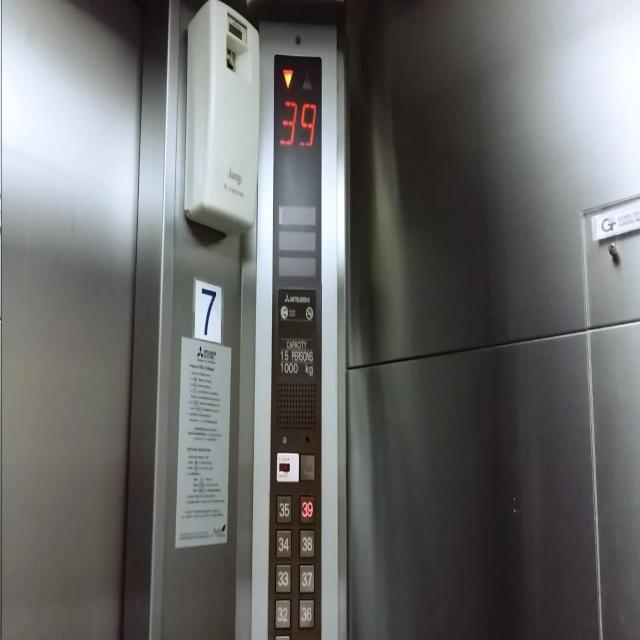32: (273, 596, 292, 630)
33: (274, 560, 292, 594)
34: (274, 526, 293, 558)
35: (274, 492, 292, 524)
36: (297, 595, 315, 629)
37: (297, 560, 315, 594)
38: (297, 526, 316, 559)
39: (298, 492, 316, 526)
alarm: (298, 450, 316, 482)
led: (277, 59, 319, 153)
